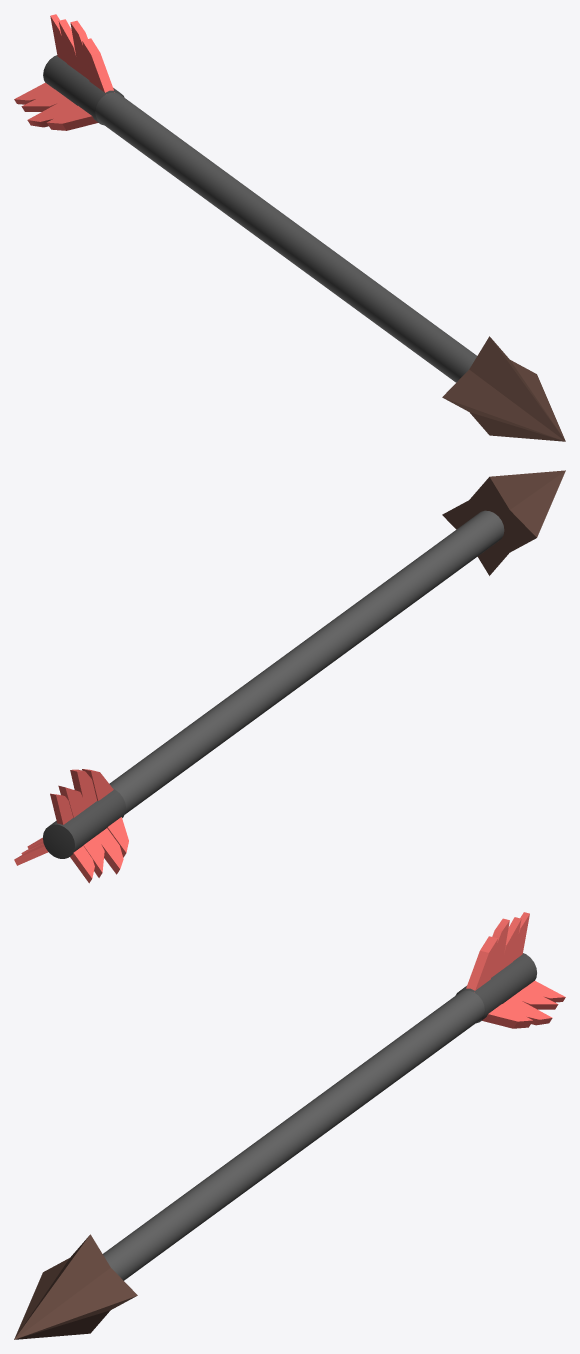
The model's file is Arrow1.fbx.
3 renders of one model, top to bottom at view 1: azimuth 30°, elevation 25°; view 2: azimuth 150°, elevation 25°; view 3: azimuth 330°, elevation 25°, orthographic.
Visible parts, largest first — view 1: polySurface327; view 2: polySurface327; view 3: polySurface327.
Part boxes in pixels (box(x1,y1,x2,y2)): polySurface327: box(14, 14, 565, 441); polySurface327: box(14, 470, 565, 883); polySurface327: box(14, 912, 565, 1339).
Size of the model in its own units: 0.1186 by 0.131 by 1.11.
